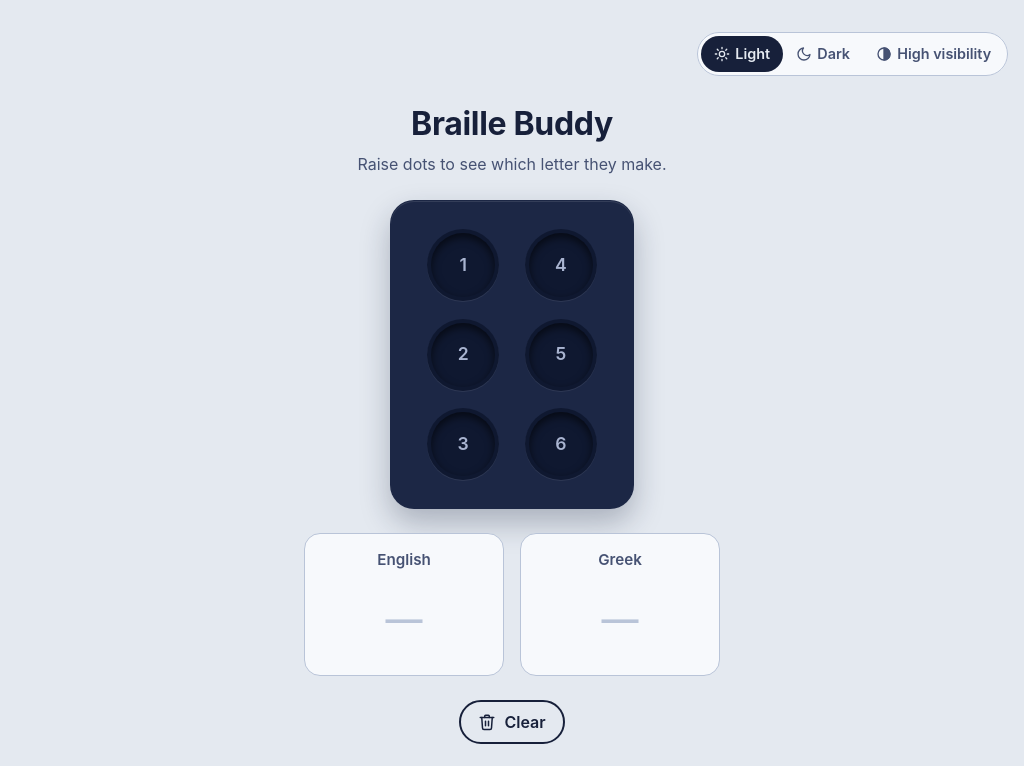
Test: translates clicked dots to English and Greek letters
The width and height of the screenshot is (1024, 766).
Click the button named "Dot 1". click: point(463, 265)
box: [427,229,499,301]
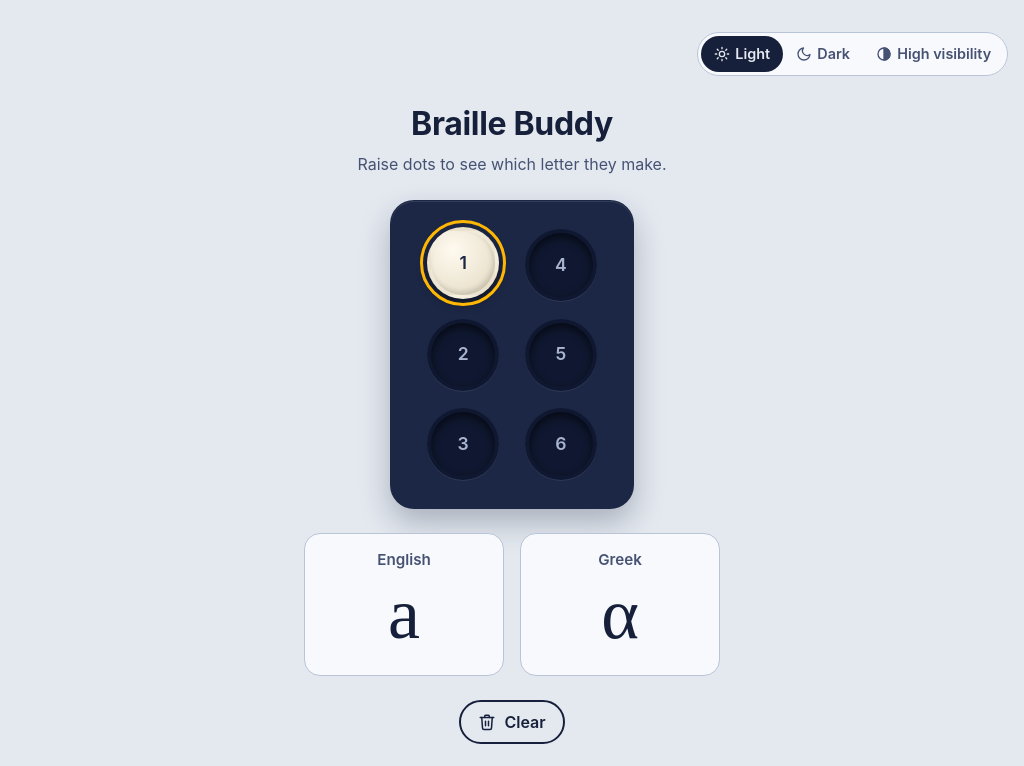
Click the button named "Dot 4". click: point(561, 265)
box: [525,229,597,301]
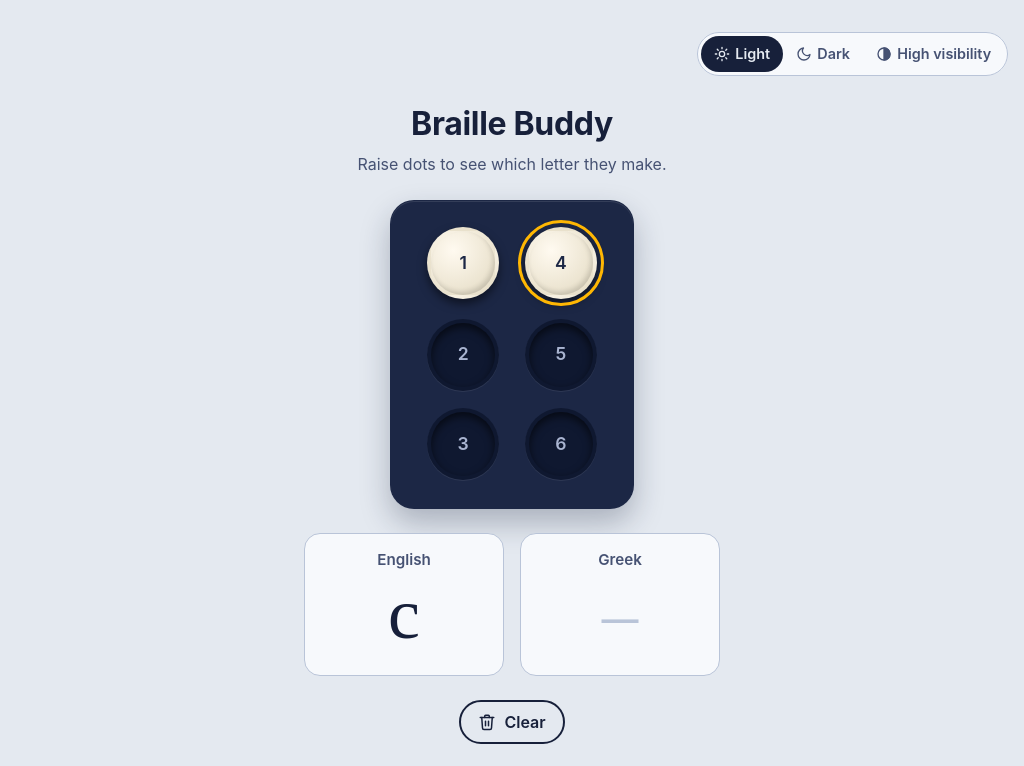
Click the button named "Dot 5". click: point(561, 355)
box: [525,319,597,391]
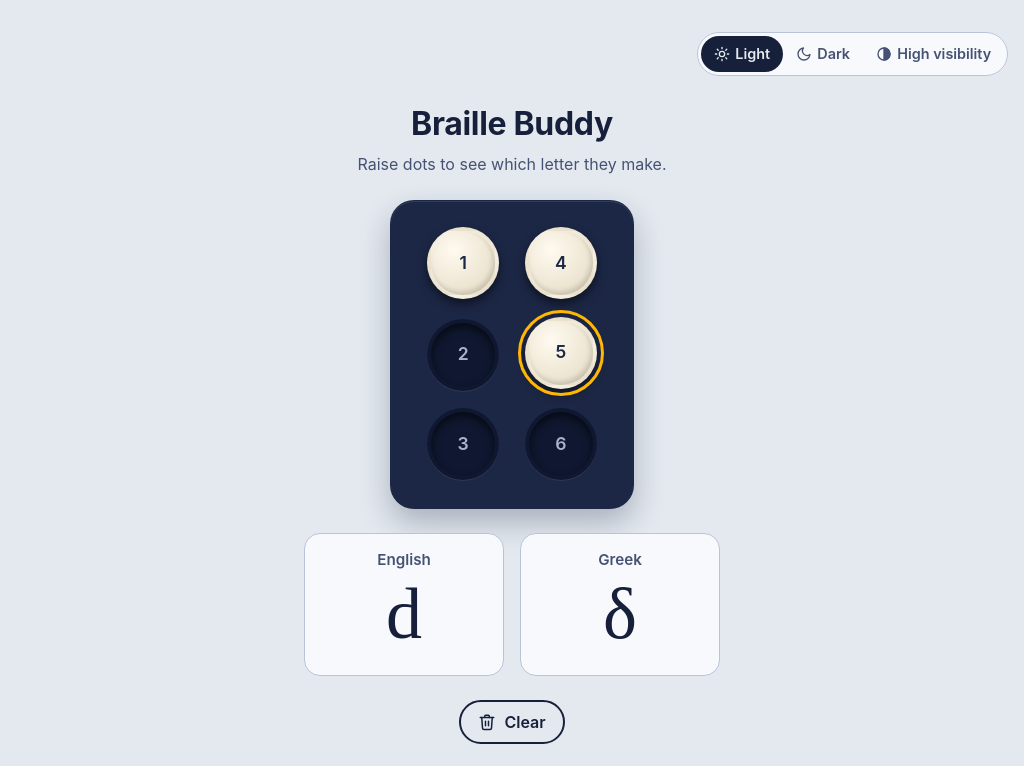
Expected: the text "d" is shown, [386,574,422,654]
Expected: the text "δ" is shown, [603,574,637,654]
